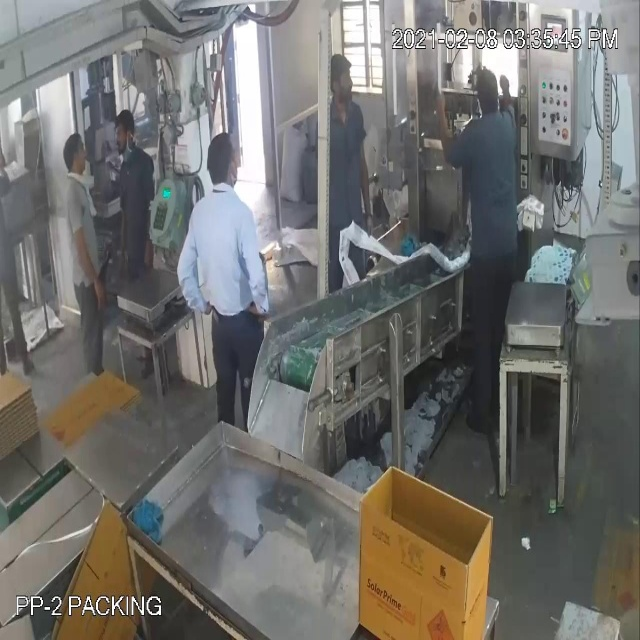Sin_guantes: (231, 203, 275, 330), (172, 217, 214, 332), (67, 210, 107, 315), (356, 119, 380, 241), (432, 82, 459, 168), (497, 58, 520, 148)
